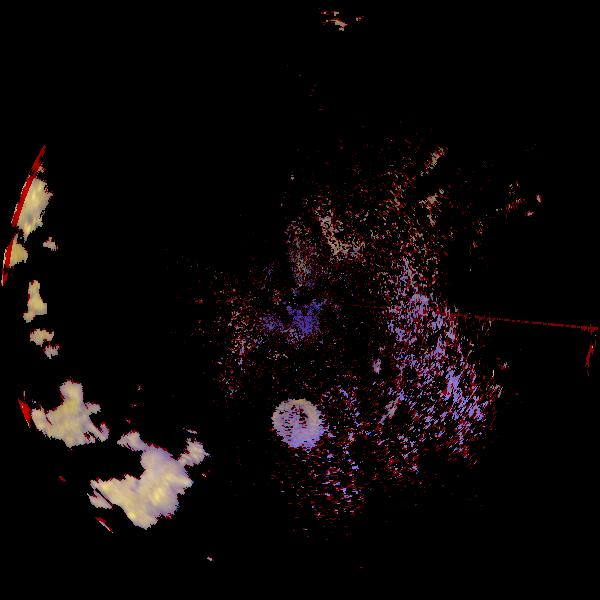roost: (270, 396, 324, 450)
